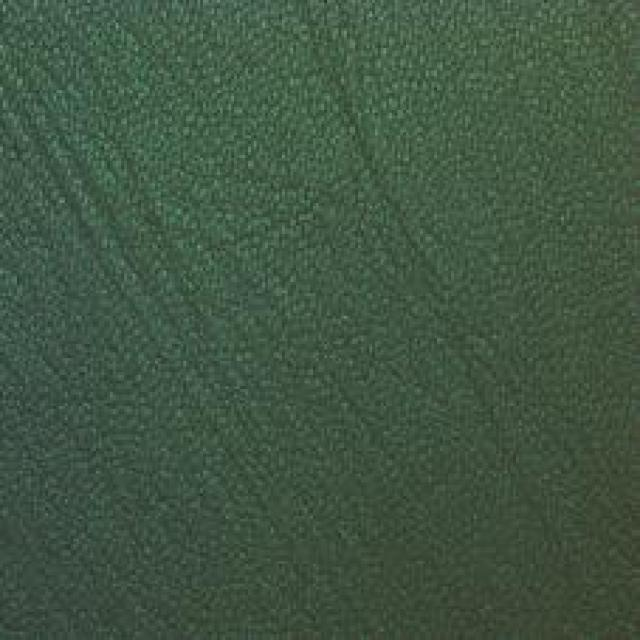Growth Marks: (28, 103, 180, 320), (301, 56, 455, 252)
